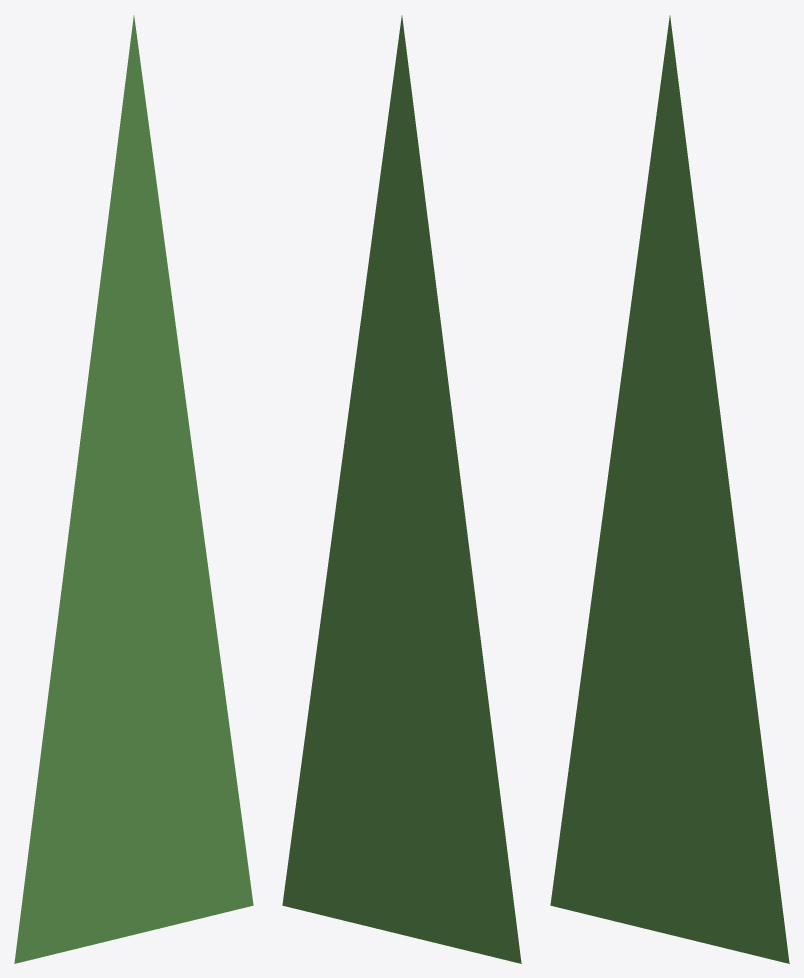
Rendered from Grass_05.fbx.
3 renders of one model, left to right at view 1: azimuth 30°, elevation 25°; view 2: azimuth 150°, elevation 25°; view 3: azimuth 330°, elevation 25°, orthographic.
Visible parts, largest first — view 1: Grass; view 2: Grass; view 3: Grass.
Part boxes in pixels (x1,y1,x2,y2): Grass: [14, 15, 253, 963]; Grass: [282, 15, 521, 963]; Grass: [550, 15, 789, 963].
Bounding box in the file's own units: 5.93 × 21.8 × 0.
